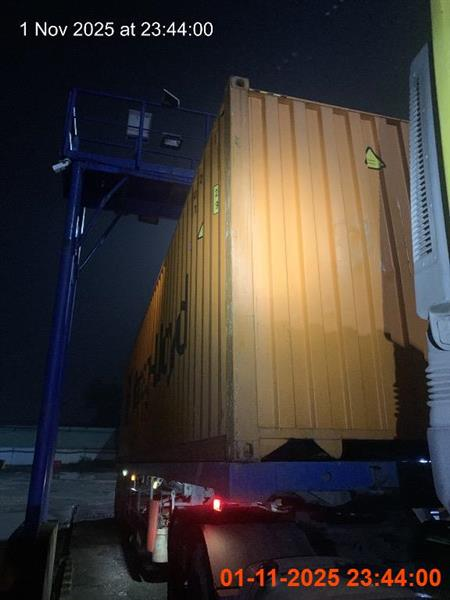crack: (113, 75, 448, 595)
